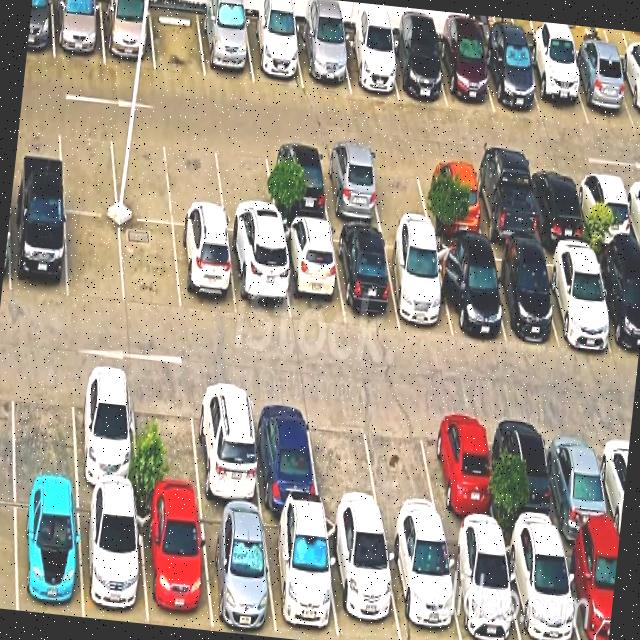empty: (363, 402, 442, 527), (307, 397, 381, 521), (132, 375, 201, 502), (12, 363, 76, 486), (214, 137, 277, 235), (110, 126, 172, 223), (58, 119, 117, 215), (166, 132, 225, 228), (120, 219, 180, 312), (65, 212, 124, 304), (367, 151, 430, 229), (149, 5, 205, 76)
occupied: (199, 504, 276, 634), (262, 511, 338, 640), (137, 498, 211, 627), (324, 517, 400, 640), (425, 406, 498, 533), (78, 490, 147, 621), (15, 485, 82, 617), (544, 417, 615, 541), (383, 526, 460, 640), (192, 382, 261, 508), (443, 529, 520, 640), (250, 389, 319, 512), (494, 412, 561, 537), (72, 367, 137, 495), (503, 534, 579, 640), (540, 246, 613, 350), (434, 241, 505, 342), (485, 245, 557, 343), (383, 234, 452, 336), (332, 228, 399, 328), (279, 224, 344, 325), (561, 538, 619, 640), (173, 225, 236, 315), (227, 232, 290, 321), (10, 200, 66, 299), (471, 162, 537, 244), (567, 52, 634, 129), (593, 250, 640, 359), (420, 157, 484, 237), (265, 143, 329, 223), (319, 147, 381, 226), (524, 49, 588, 124), (575, 169, 635, 248), (527, 166, 587, 243), (482, 41, 541, 118), (436, 37, 494, 112), (244, 17, 303, 88), (387, 36, 446, 106), (197, 10, 253, 83), (339, 31, 398, 99), (100, 0, 155, 69), (295, 26, 350, 92), (52, 0, 104, 63), (615, 59, 640, 129)
